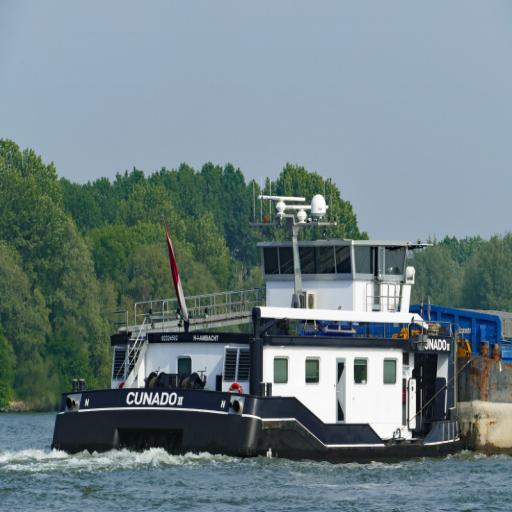tugboat: (47, 172, 471, 474)
